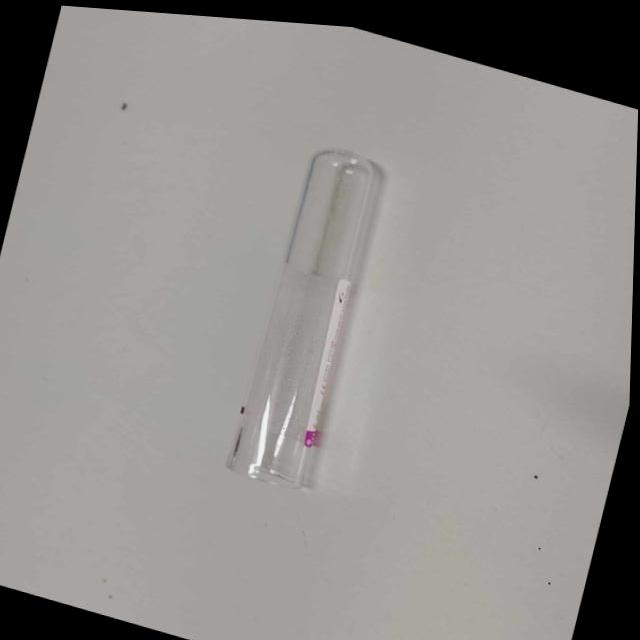Pathological: (1, 2, 636, 637)
Sharps: (223, 147, 382, 489)
